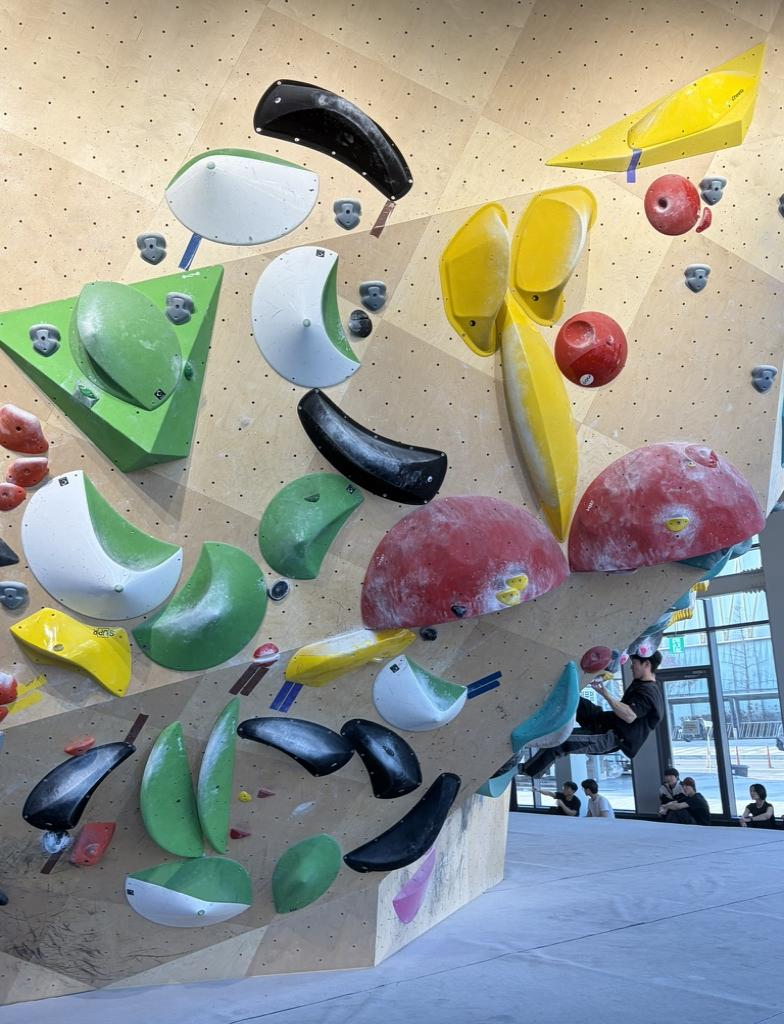crimp: (496, 587, 520, 606), (252, 653, 281, 667), (507, 574, 528, 590), (696, 207, 709, 232), (667, 517, 688, 531)
downhold: (30, 324, 59, 355), (137, 232, 165, 264), (166, 292, 194, 324), (700, 174, 726, 205), (0, 581, 28, 609), (360, 281, 386, 311), (335, 198, 360, 229), (752, 365, 776, 393), (686, 264, 709, 292)
jib: (231, 828, 250, 838), (259, 789, 275, 797)
jug: (0, 405, 48, 453), (7, 457, 47, 487), (0, 483, 26, 510), (349, 309, 372, 337), (268, 579, 289, 601)
ledge: (21, 471, 182, 619), (134, 542, 266, 670), (344, 773, 459, 871), (286, 629, 413, 686), (374, 655, 466, 729), (237, 718, 353, 776), (206, 595, 206, 596)
pinch: (254, 80, 411, 199), (298, 390, 446, 504), (22, 741, 135, 830), (341, 719, 422, 797)
pocket: (554, 311, 627, 386), (645, 176, 698, 233)
sidepull: (499, 292, 577, 541), (253, 247, 359, 388), (70, 282, 182, 410), (511, 186, 596, 324), (259, 473, 362, 578), (441, 203, 508, 356), (141, 722, 203, 855), (197, 697, 238, 853), (160, 831, 160, 831)
sloper: (165, 149, 317, 245), (126, 857, 251, 927), (273, 834, 340, 911)
tape: (10, 675, 44, 713), (230, 664, 266, 694), (270, 682, 302, 713), (467, 672, 500, 699), (371, 200, 394, 237), (179, 234, 200, 270), (125, 713, 148, 743), (42, 847, 64, 873), (626, 149, 641, 182)
undercling: (11, 608, 131, 695), (42, 831, 71, 853)
volume: (0, 266, 220, 469), (548, 44, 765, 171), (362, 496, 569, 629), (569, 442, 763, 571)
